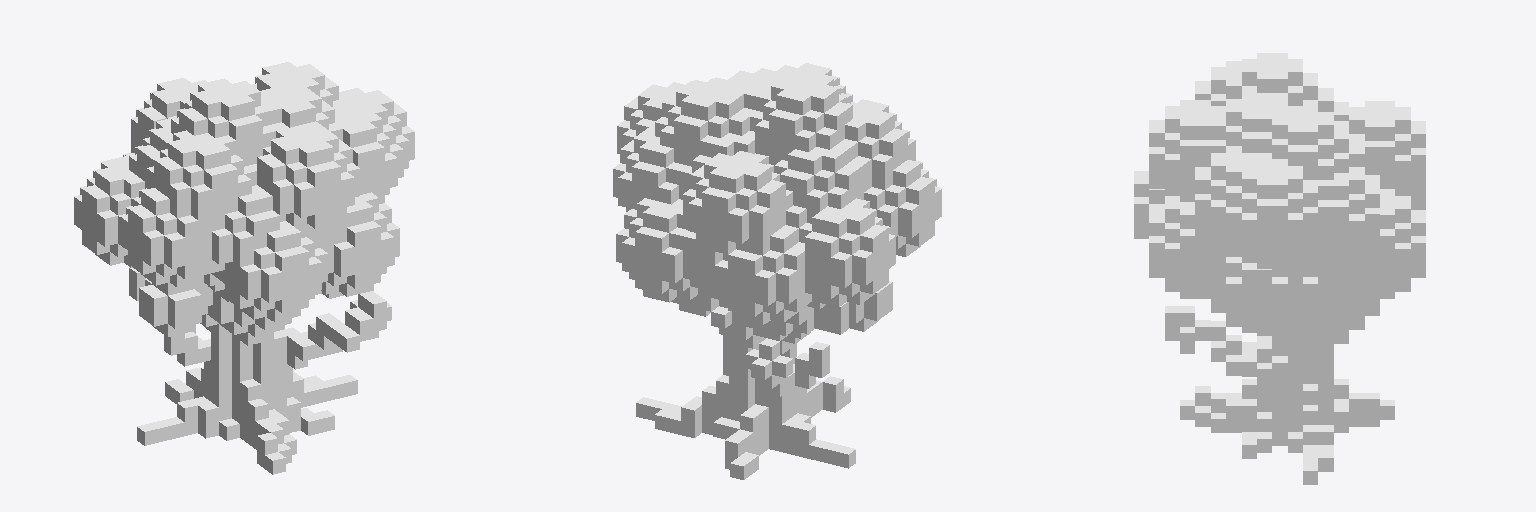
Rendered from medium_tree.obj.
3 renders of one model, left to right at view 1: azimuth 30°, elevation 25°; view 2: azimuth 150°, elevation 25°; view 3: azimuth 270°, elevation 25°, orthographic.
Visible parts, largest first — view 1: medium_tree; view 2: medium_tree; view 3: medium_tree.
Part boxes in pixels (x1,y1,x2,y2): medium_tree: (74,62,414,474); medium_tree: (613,63,941,479); medium_tree: (1134,53,1425,484).
Size of the model in its own units: 21 by 25 by 19.